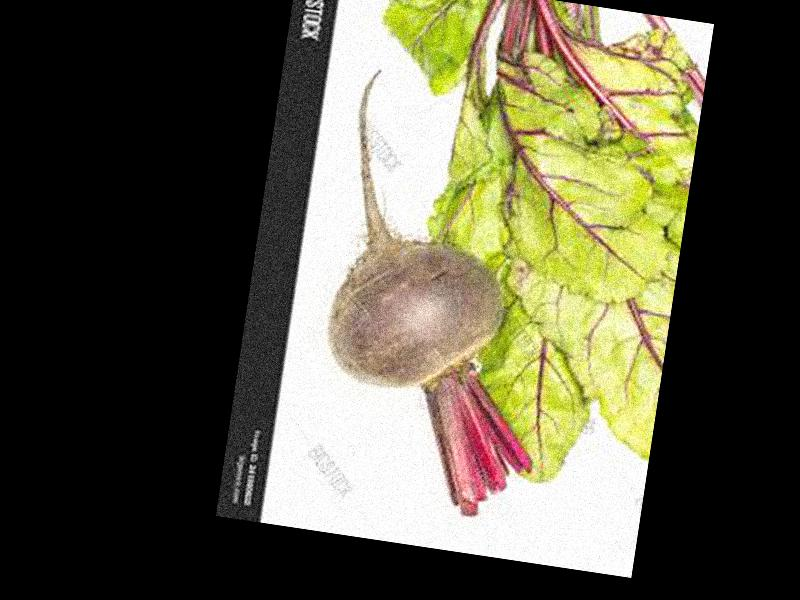Beet: (302, 68, 586, 525)
